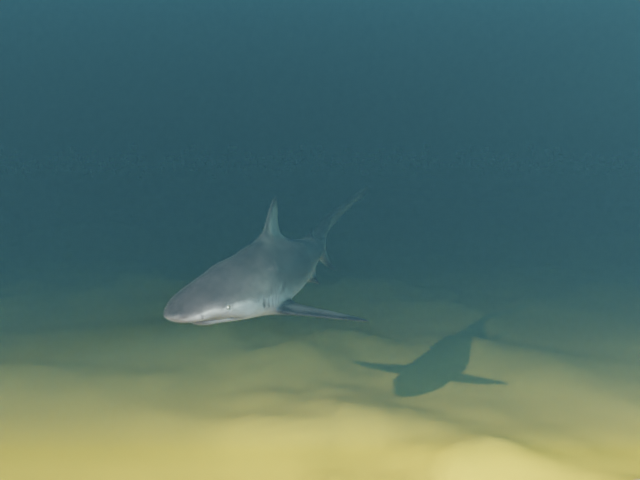Carribean Shark.001: (163, 186, 369, 325)
